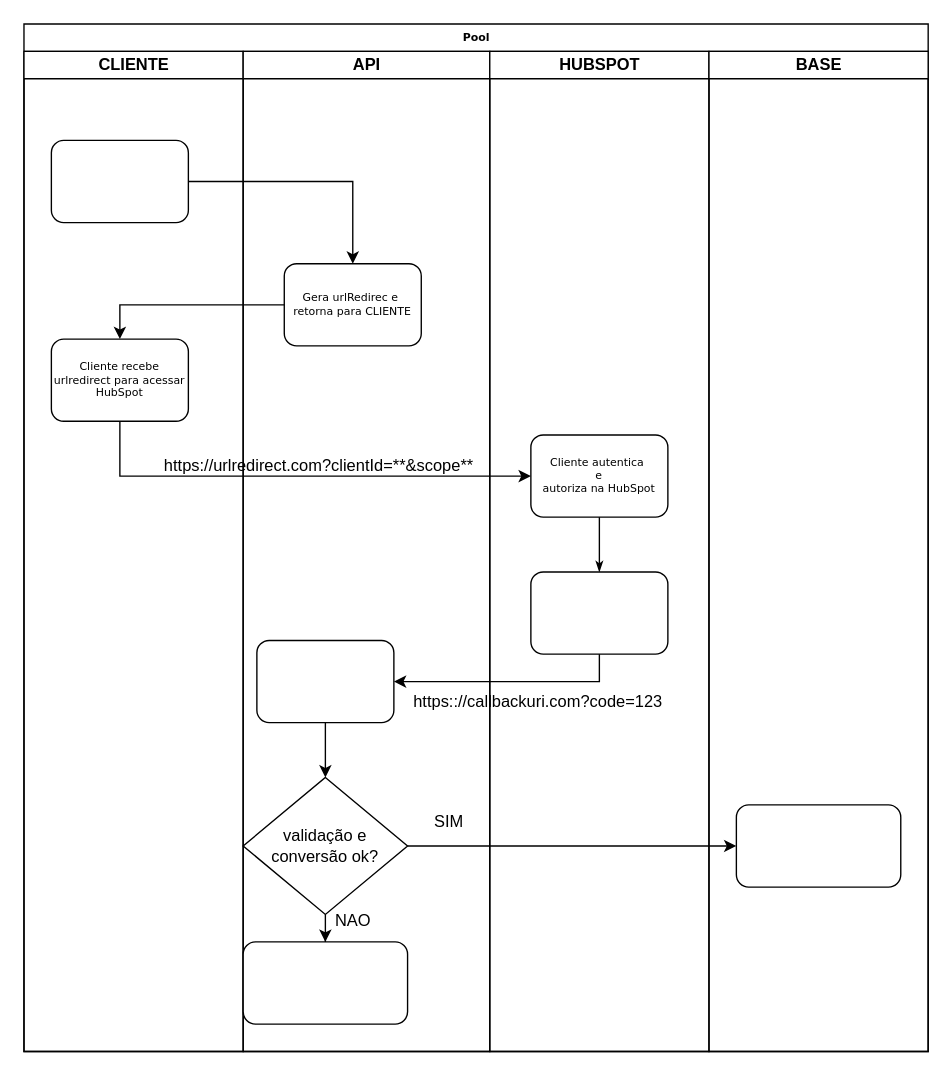
Some shapes in this 952 by 1075 pixel diagram are drawn without their labels. Here are the shapes that lost their labels. From the top down, the box of each, then its label:
(50, 139, 188, 223): chama endpoint de criação de contato com o json ao lado
(530, 571, 668, 654): HubSpot retorna a url de callback para API
(256, 639, 394, 723): API recebe callback e faz valicação junto com a conversão do tokenExchange
(735, 804, 901, 887): Salva token na base
(242, 941, 408, 1024): Gera exceção e interrompe o fluxo
